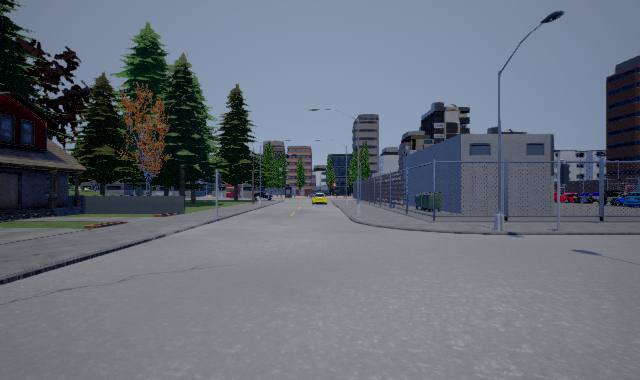vehicle: (312, 192, 326, 203)
